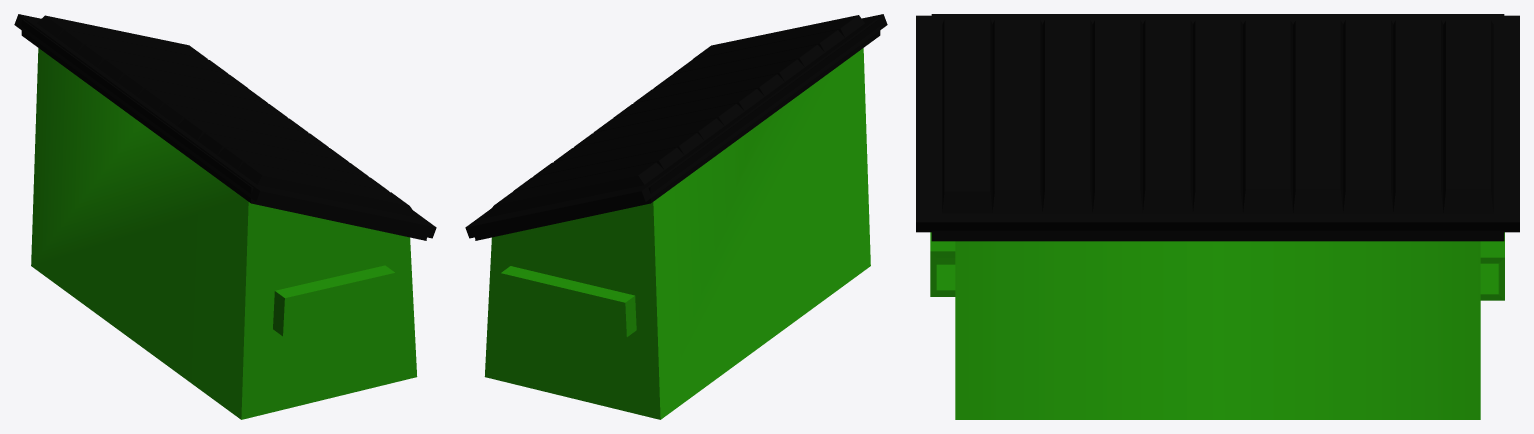
The model's file is Dumpster_kw.fbx.
The picture shows the model from 3 angles, left to right: view 1: azimuth 30°, elevation 25°; view 2: azimuth 150°, elevation 25°; view 3: azimuth 270°, elevation 25°; orthographic projection. The views are drawn at different scales.
Visible parts, largest first — view 1: Dumpster_KW; view 2: Dumpster_KW; view 3: Dumpster_KW.
Part boxes in pixels (box(x1,y1,x2,y2)): Dumpster_KW: box(14, 14, 436, 419); Dumpster_KW: box(465, 14, 887, 419); Dumpster_KW: box(916, 14, 1519, 419).
Bounding box in the file's own units: 161 × 208 × 375.
